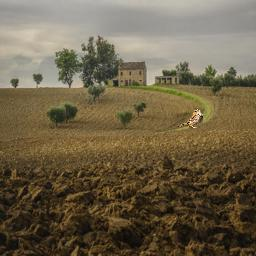Sparrow: (177, 108, 204, 129)
